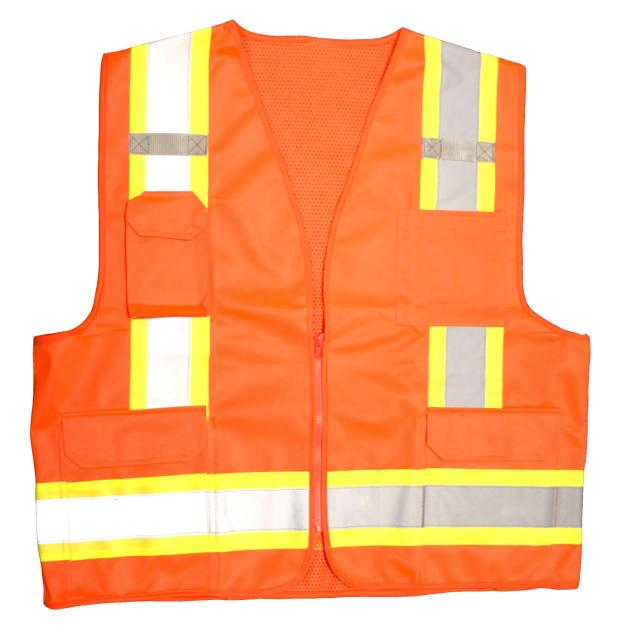Vest: (29, 18, 591, 612)
